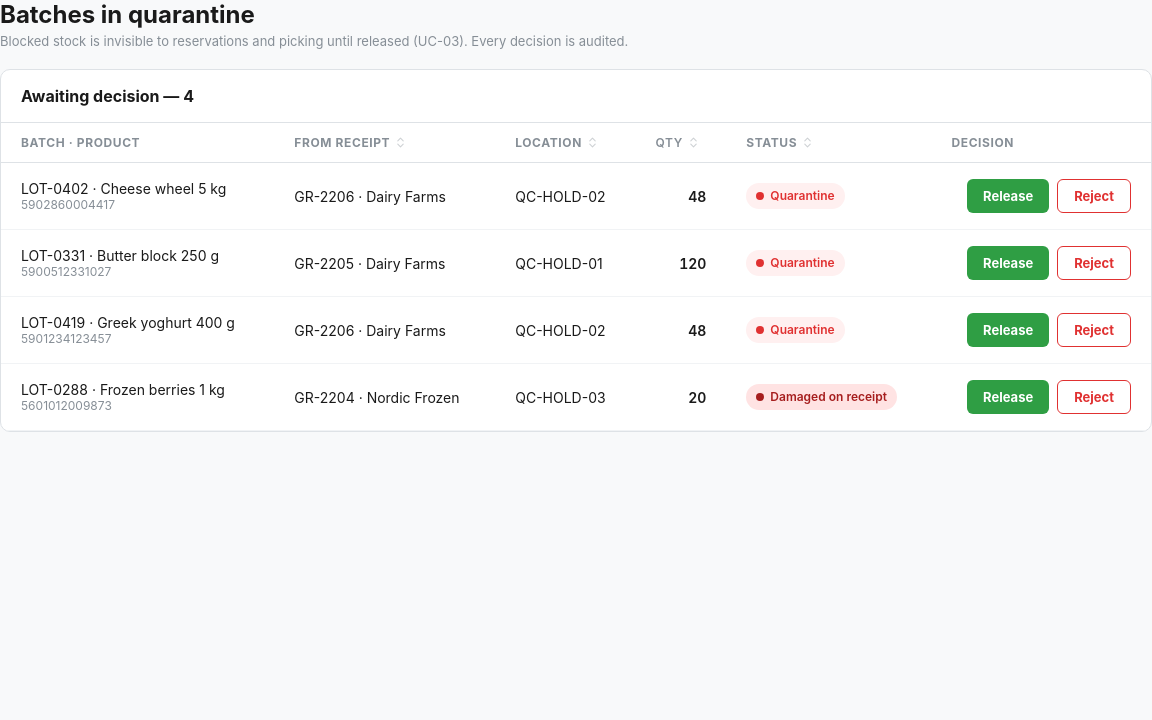
QualityScreen › requires a reason before a decision can be confirmed (UC-03 audit)
Check: the text "LOT-0402 · Cheese wheel 5 kg" is shown, box left=21, top=180, right=226, bottom=197
Click the button "Reject" in the row of "LOT-0402".
click(1094, 196)  # box left=1057, top=179, right=1131, bottom=213
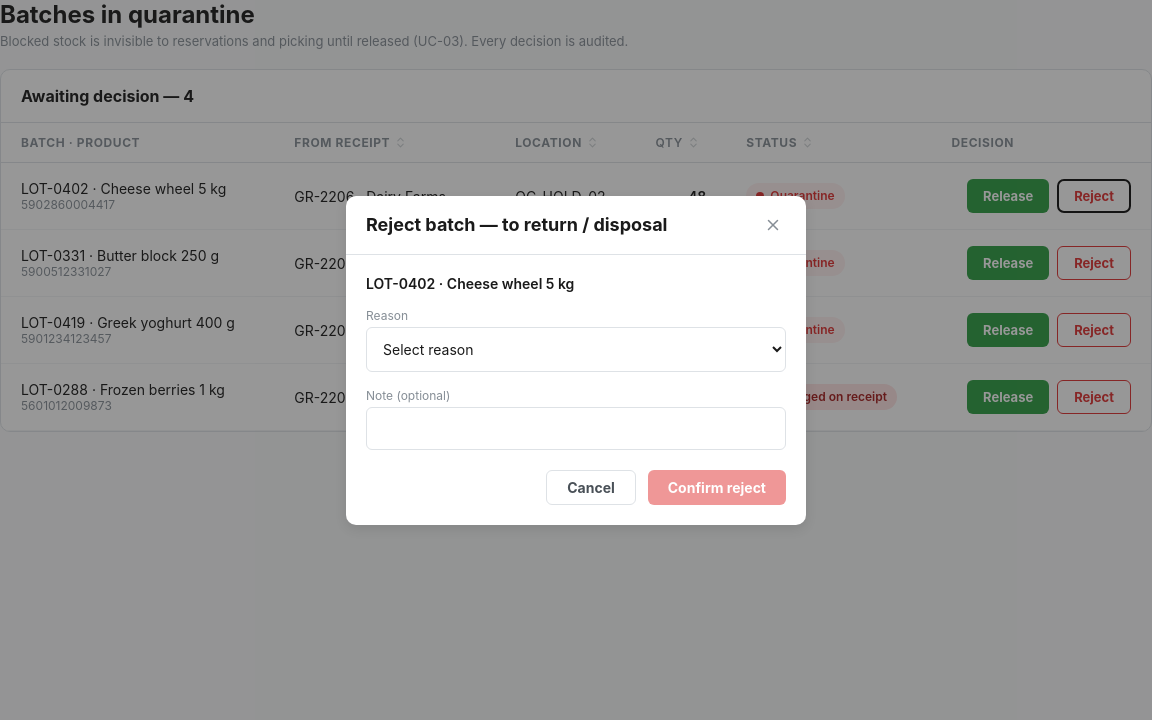
Check: the button "Confirm reject" is disabled, box left=648, top=470, right=786, bottom=504
Select "Damaged" in the dropdown labelled "Reason" at coordinates (576, 349), box left=366, top=326, right=786, bottom=372
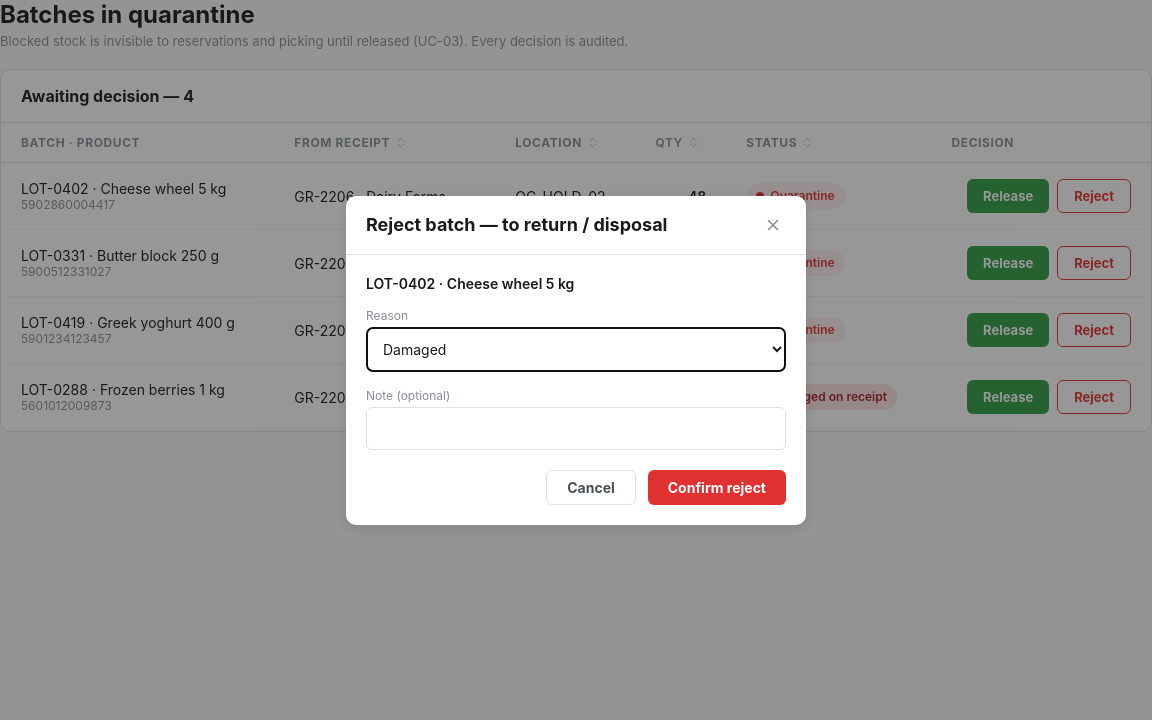
Check: the button "Confirm reject" is enabled, box left=648, top=470, right=786, bottom=504
